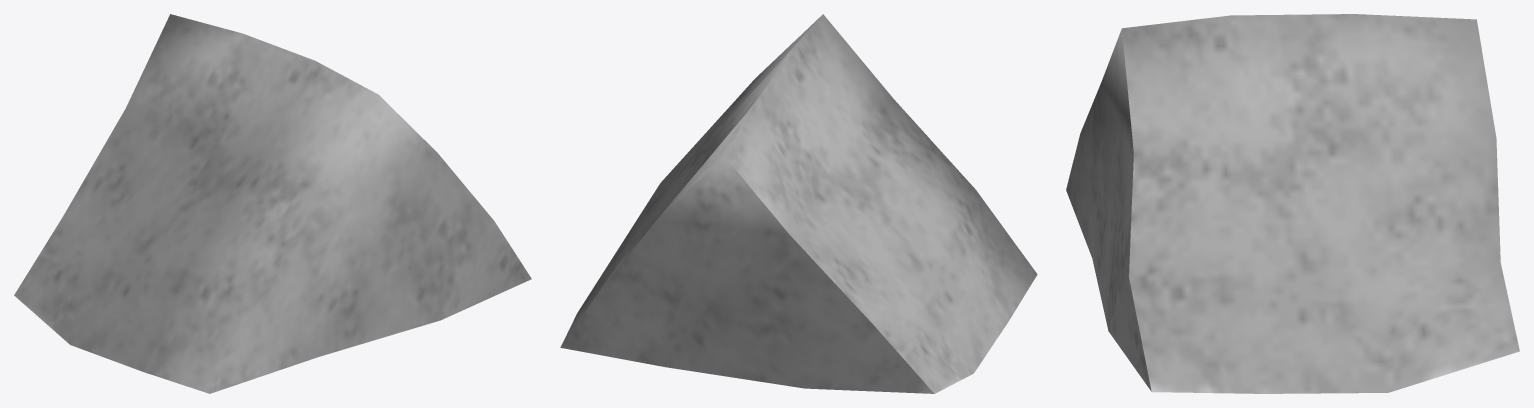
The model's file is ob-bigstone02.fbx.
3 renders of one model, left to right at view 1: azimuth 30°, elevation 25°; view 2: azimuth 150°, elevation 25°; view 3: azimuth 270°, elevation 25°, orthographic. The views are drawn at different scales.
Visible parts, largest first — view 1: Box01; view 2: Box01; view 3: Box01.
Part boxes in pixels (x1=…): Box01: x1=14, y1=14, x2=531, y2=393; Box01: x1=560, y1=14, x2=1037, y2=393; Box01: x1=1066, y1=14, x2=1519, y2=393.
Bounding box in the file's own units: 4.5 × 2.7 × 3.79.
